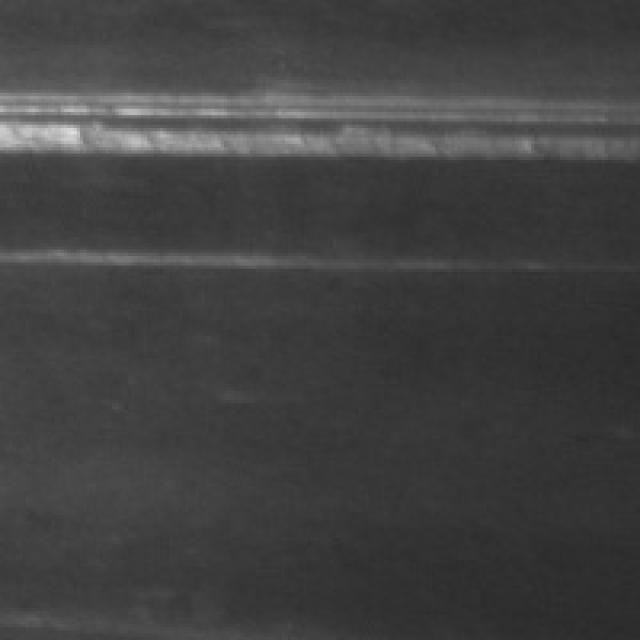scratches: (0, 77, 630, 157), (0, 224, 544, 275)
